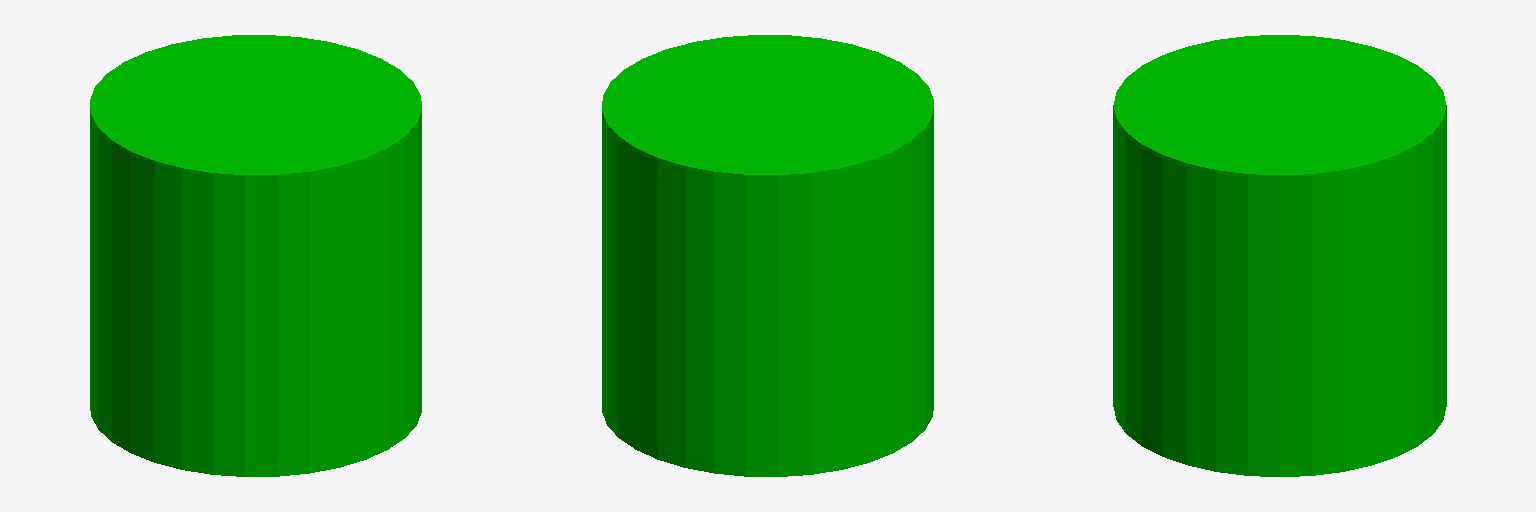
Rendered from Exit.obj.
3 views of the same model, side by side, from view 1: azimuth 30°, elevation 25°; view 2: azimuth 150°, elevation 25°; view 3: azimuth 270°, elevation 25° (orthographic).
Visible parts, largest first — view 1: Cylinder; view 2: Cylinder; view 3: Cylinder.
Boxes of the visible parts, x1,y1,x2,y2 form: Cylinder: [90, 35, 421, 476]; Cylinder: [602, 35, 933, 476]; Cylinder: [1113, 35, 1446, 476].
Bounding box in the file's own units: 2 × 2 × 2.